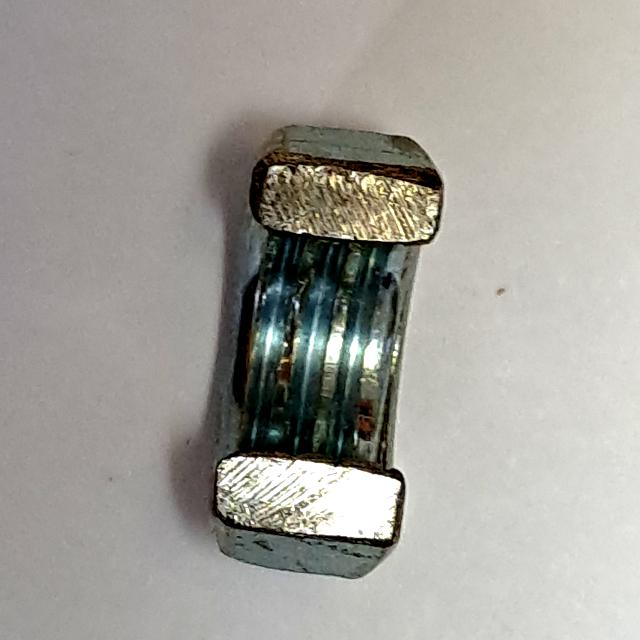Side-Fracture: (198, 111, 457, 592)
